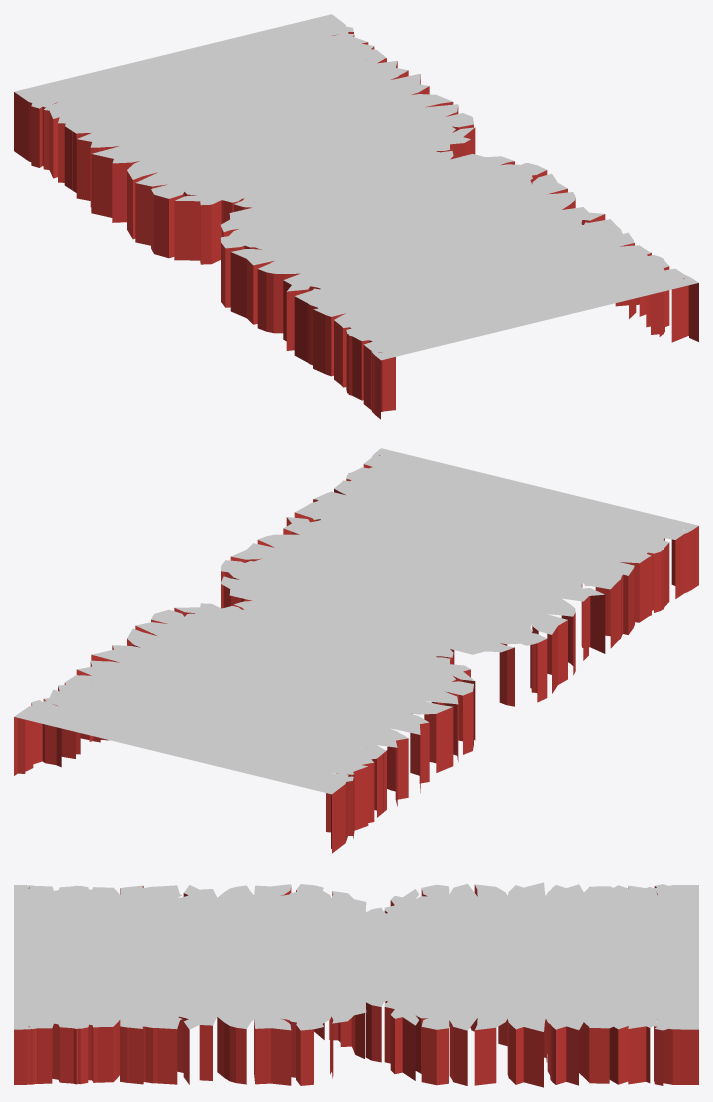
The model's file is iceupdate.fbx.
The picture shows the model from 3 angles, top to bottom: view 1: azimuth 30°, elevation 25°; view 2: azimuth 150°, elevation 25°; view 3: azimuth 270°, elevation 25°; orthographic projection. The views are drawn at different scales.
Visible parts, largest first — view 1: r.001, r.002; view 2: r.001, r.002; view 3: r.001, r.002.
Boxes of the visible parts, x1,y1,x2,y2 form: r.001: [17, 15, 698, 412]; r.002: [14, 14, 698, 419]; r.001: [14, 448, 698, 850]; r.002: [14, 455, 698, 853]; r.001: [14, 882, 698, 1085]; r.002: [14, 884, 698, 1087].
Size of the model in its own units: 2899 by 500 by 5600.
